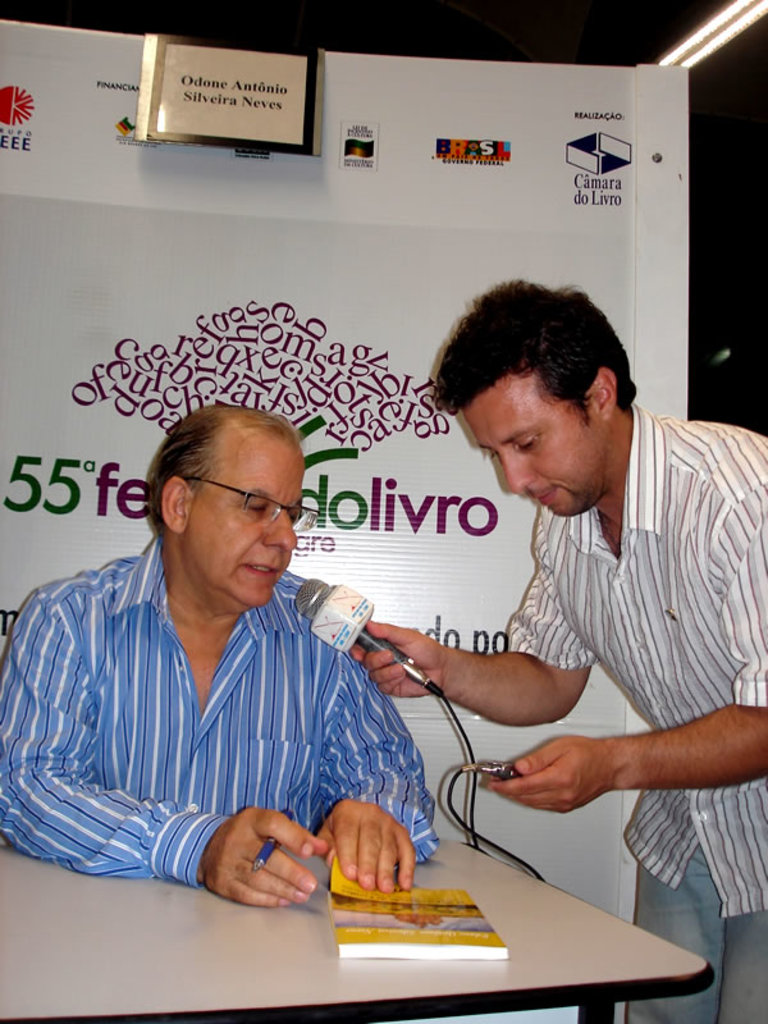Human_hand: (197, 804, 328, 911), (481, 732, 616, 817), (315, 800, 417, 897), (351, 617, 448, 698)
